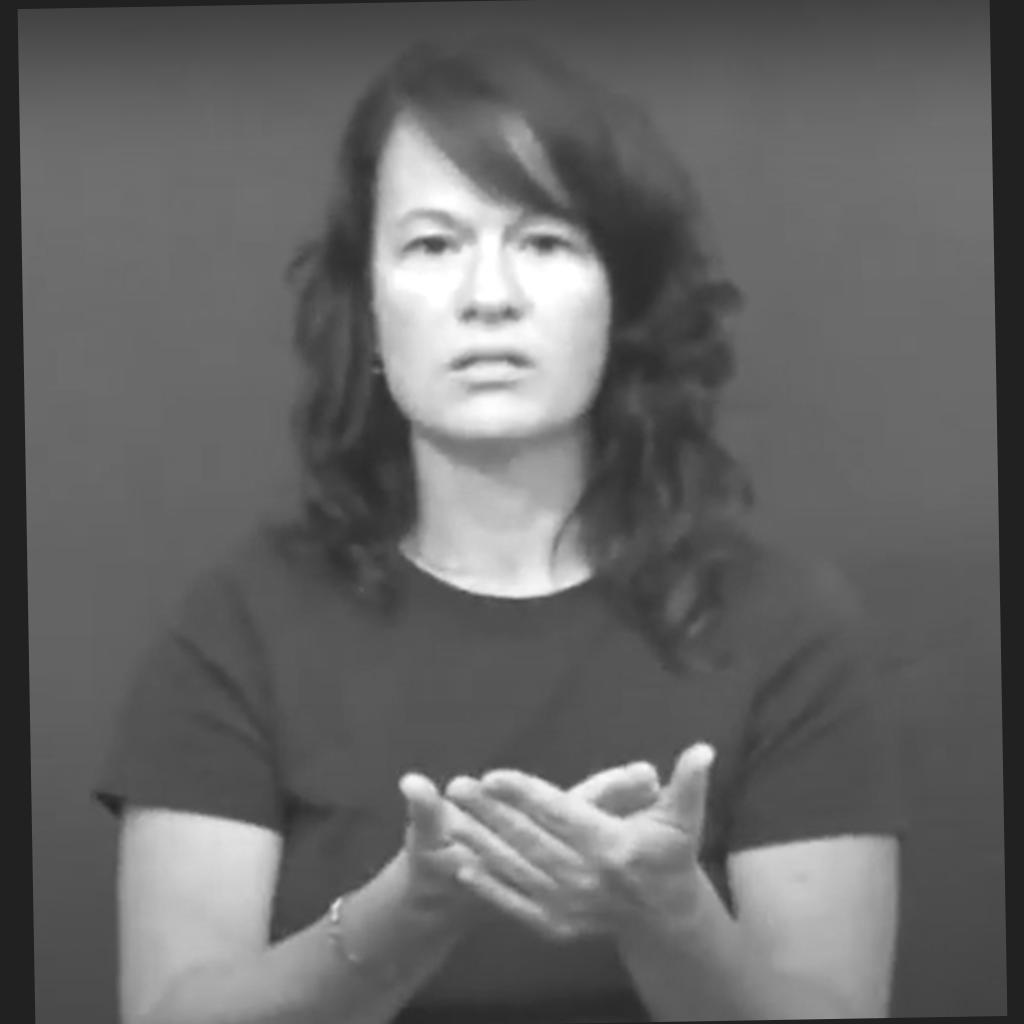good: (399, 744, 717, 944)
